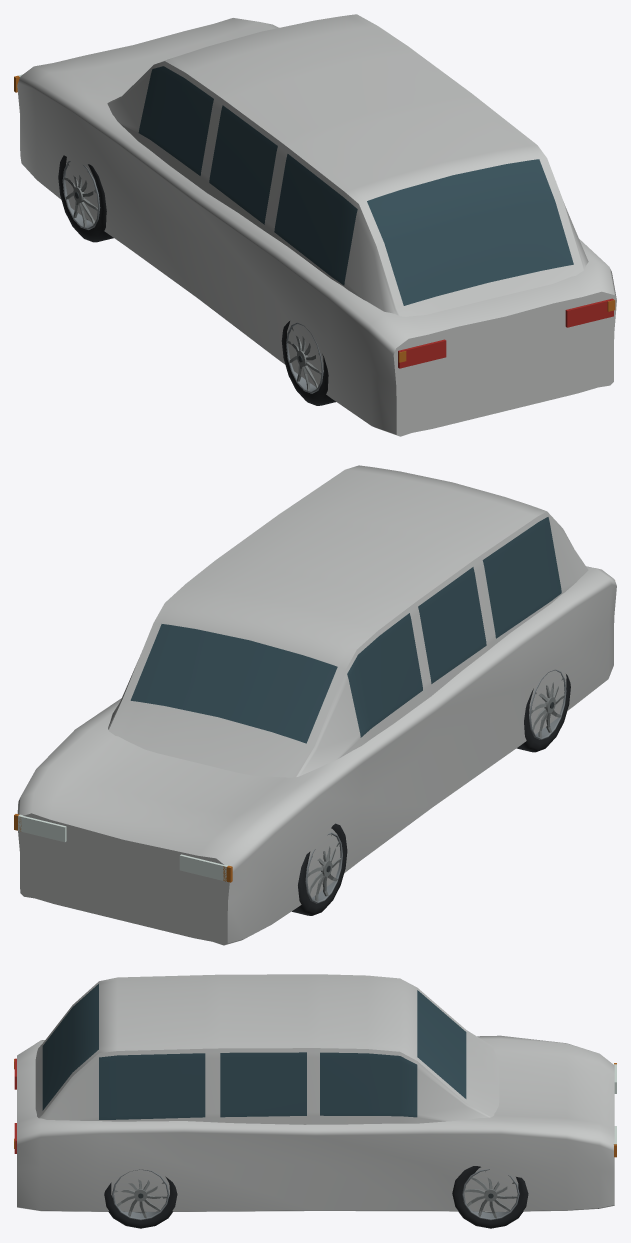
File: monterey-lod.glb
The picture shows the model from 3 angles, top to bottom: view 1: azimuth 30°, elevation 25°; view 2: azimuth 150°, elevation 25°; view 3: azimuth 270°, elevation 25°; orthographic projection. The views are drawn at different scales.
Parts seen in each view (by area): view 1: paint, glass, wheelSurface (×2), brake; view 2: paint, glass, wheelSurface (×2), head; view 3: paint, glass, wheelSurface (×2).
Boxes of the visible parts, bbox=[...] form: paint: bbox=[17, 14, 616, 436]; glass: bbox=[138, 66, 573, 305]; wheelSurface (×2): bbox=[58, 155, 335, 405]; brake: bbox=[398, 298, 613, 368]; paint: bbox=[17, 465, 616, 945]; glass: bbox=[130, 517, 561, 743]; wheelSurface (×2): bbox=[292, 669, 570, 915]; head: bbox=[18, 814, 228, 881]; paint: bbox=[17, 974, 614, 1211]; glass: bbox=[42, 984, 466, 1119]; wheelSurface (×2): bbox=[104, 1166, 528, 1228].
Size of the model in its own units: 1.85 by 1.58 by 4.87.
